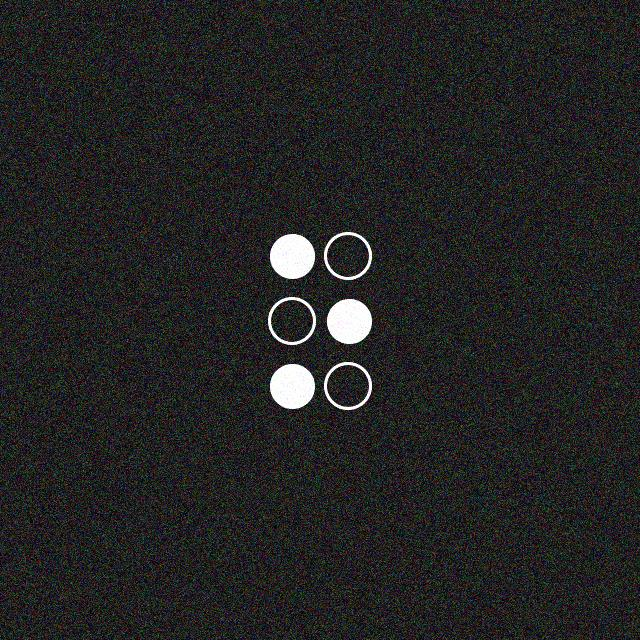O: (269, 229, 374, 416)
